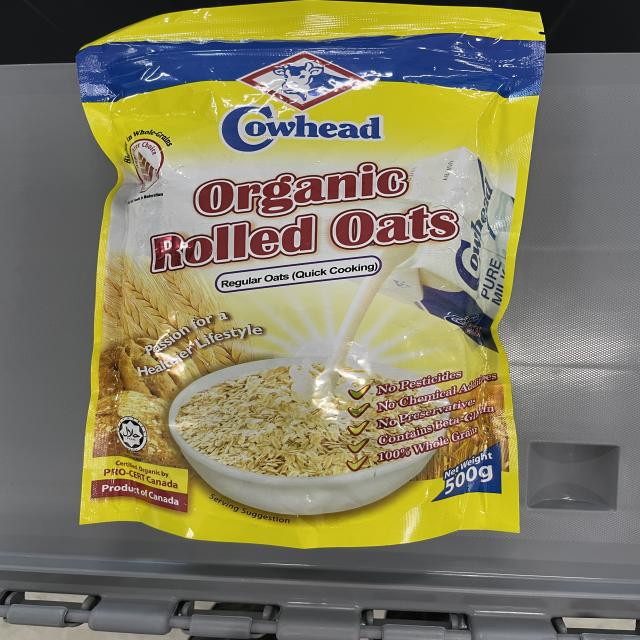object_name: (83, 22, 517, 534)
